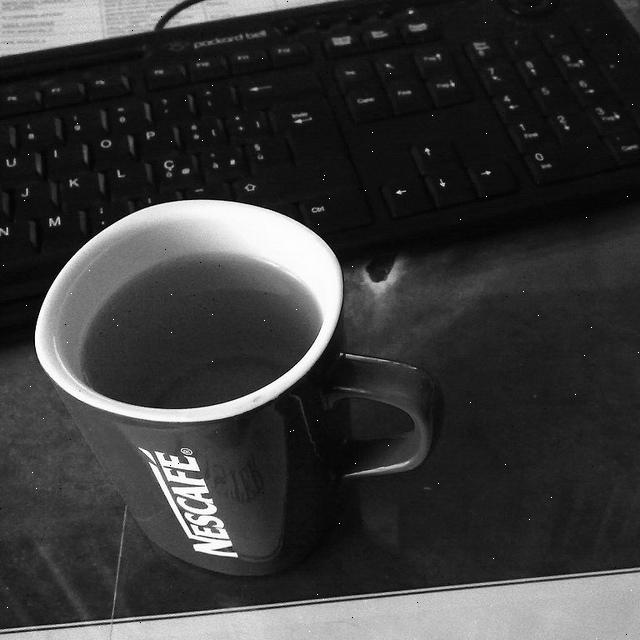cup: (10, 187, 463, 597)
